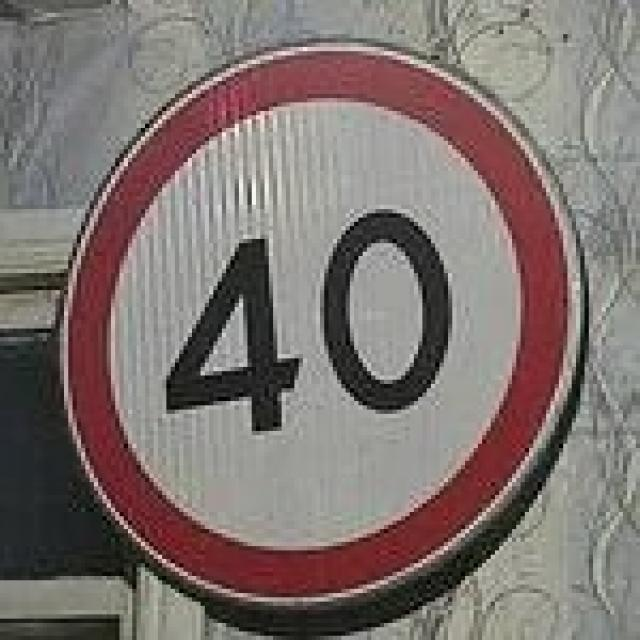speed limit 40: (55, 33, 592, 627)
